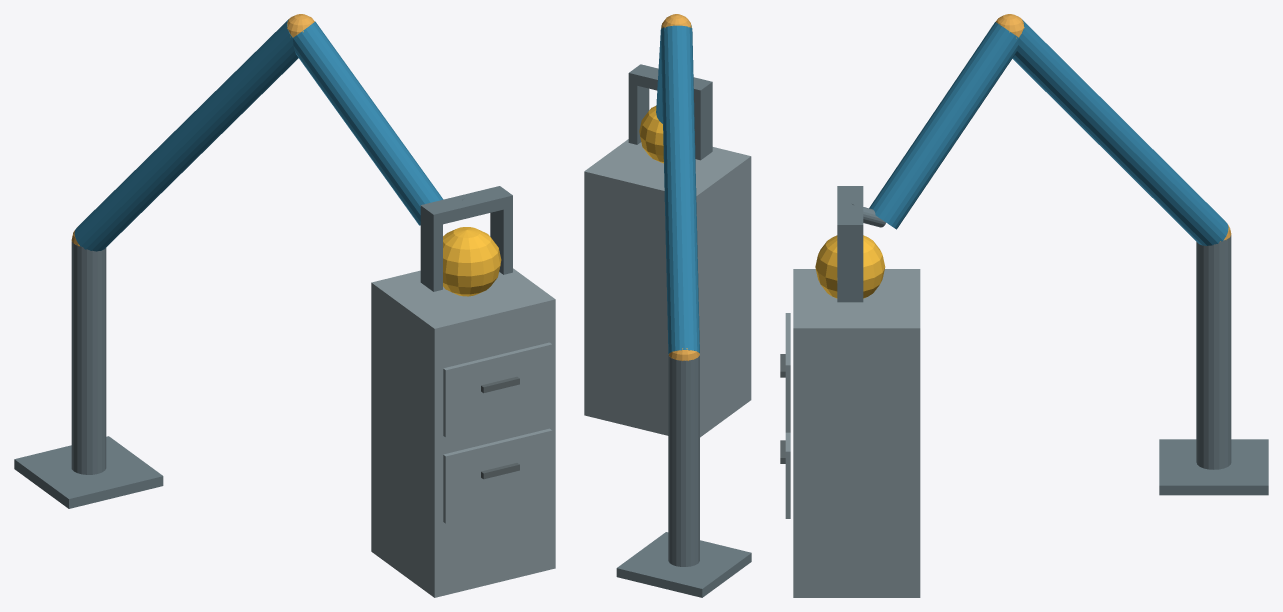
The picture shows the model from 3 angles, left to right: view 1: azimuth 30°, elevation 25°; view 2: azimuth 150°, elevation 25°; view 3: azimuth 270°, elevation 25°; orthographic projection. The views are drawn at different scales.
Parts seen in each view (by area): view 1: cabinet_1 body, moving link 1, fixed post, moving link 2, cabinet_1 drawer front.001, cabinet_1 drawer front, pedestal, ball ball_1, gripper bridge, gripper finger -1, gripper finger 1; view 2: cabinet_1 body, moving link 1, fixed post, pedestal, gripper finger -1, gripper finger 1, gripper bridge, ball ball_1, moving link 2, joint 2, joint 1; view 3: cabinet_1 body, moving link 1, fixed post, moving link 2, pedestal, ball ball_1, gripper finger 1, gripper bridge, cabinet_1 drawer front.001.
Boxes of the visible parts, x1=… form: cabinet_1 body: x1=371, y1=268, x2=555, y2=597; moving link 1: x1=74, y1=18, x2=298, y2=251; fixed post: x1=71, y1=239, x2=106, y2=474; moving link 2: x1=293, y1=21, x2=443, y2=225; cabinet_1 drawer front.001: x1=443, y1=342, x2=552, y2=437; cabinet_1 drawer front: x1=443, y1=428, x2=552, y2=523; pedestal: x1=14, y1=436, x2=163, y2=508; ball ball_1: x1=443, y1=227, x2=501, y2=296; gripper bridge: x1=420, y1=186, x2=512, y2=226; gripper finger -1: x1=420, y1=217, x2=442, y2=291; gripper finger 1: x1=490, y1=207, x2=512, y2=274; cabinet_1 body: x1=584, y1=139, x2=751, y2=437; moving link 1: x1=660, y1=25, x2=699, y2=354; fixed post: x1=668, y1=355, x2=699, y2=566; pedestal: x1=616, y1=532, x2=751, y2=597; gripper finger -1: x1=694, y1=93, x2=712, y2=160; gripper finger 1: x1=628, y1=84, x2=649, y2=144; gripper bridge: x1=628, y1=64, x2=712, y2=101; ball ball_1: x1=639, y1=106, x2=663, y2=163; moving link 2: x1=656, y1=25, x2=692, y2=123; joint 2: x1=661, y1=14, x2=691, y2=28; joint 1: x1=668, y1=348, x2=699, y2=361; cabinet_1 body: x1=793, y1=269, x2=920, y2=597; moving link 1: x1=1012, y1=19, x2=1228, y2=245; fixed post: x1=1196, y1=235, x2=1231, y2=469; moving link 2: x1=869, y1=22, x2=1018, y2=229; pedestal: x1=1159, y1=439, x2=1268, y2=495; ball ball_1: x1=815, y1=235, x2=885, y2=298; gripper finger 1: x1=837, y1=237, x2=863, y2=302; gripper bridge: x1=837, y1=186, x2=863, y2=236; cabinet_1 drawer front.001: x1=785, y1=313, x2=790, y2=432.
Size of the model in its own units: 0.8043 by 1.29 by 1.12.
